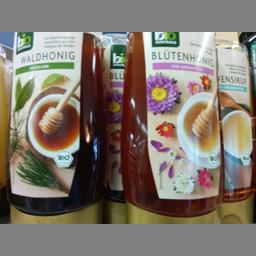honey: (124, 31, 222, 223), (10, 30, 103, 224), (214, 39, 252, 223)
